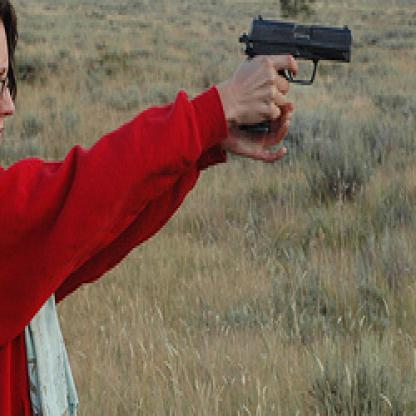gun: (232, 5, 354, 155)
